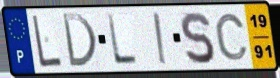C: (214, 12, 251, 62)
D: (60, 12, 99, 69)
I: (151, 11, 169, 66)
L: (30, 13, 64, 69), (105, 12, 140, 66)
S: (178, 10, 216, 66)
